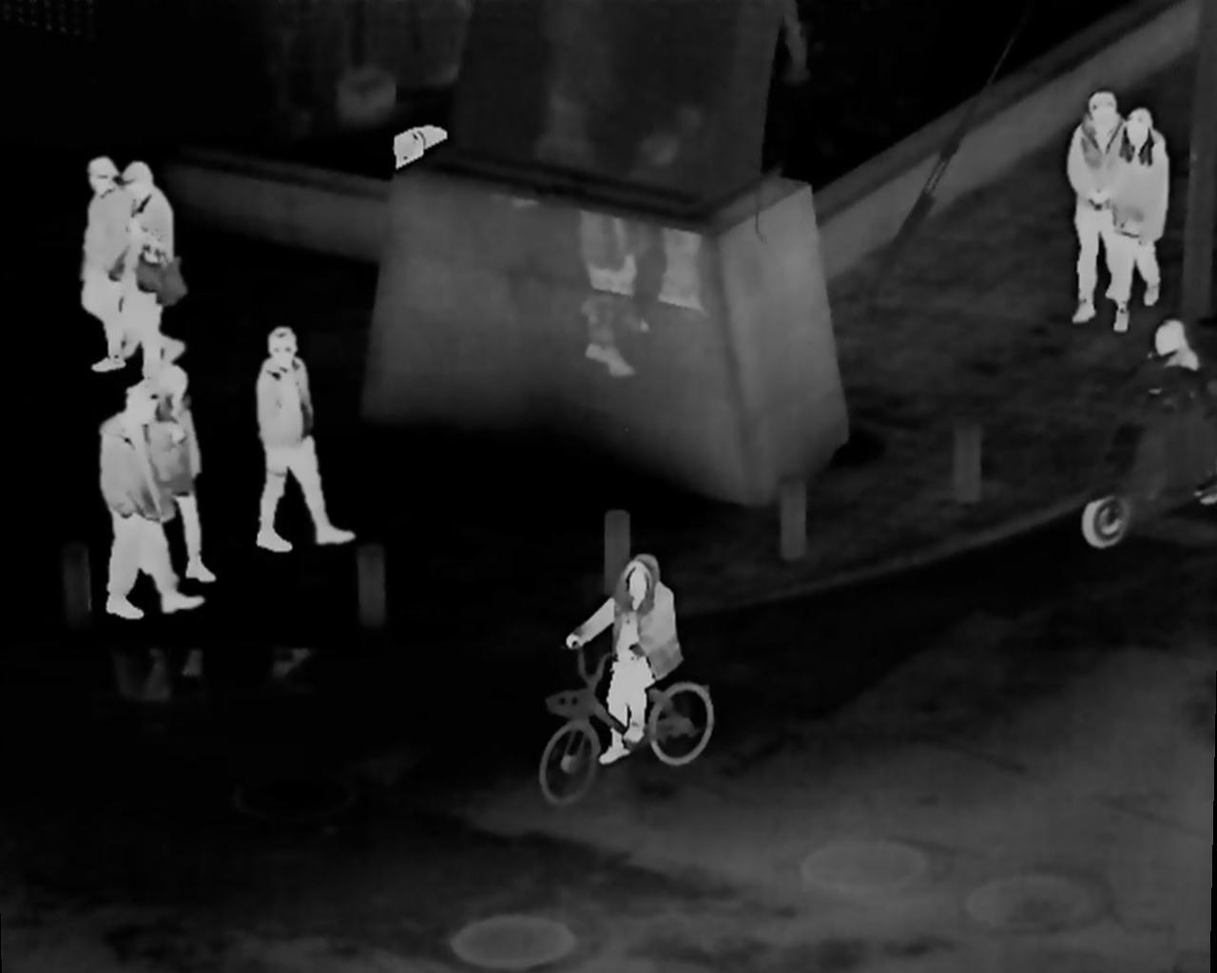person: (254, 328, 354, 557), (104, 386, 191, 617), (575, 558, 681, 739), (1095, 107, 1167, 356), (121, 154, 184, 363), (1066, 92, 1122, 322), (164, 360, 214, 589), (80, 156, 136, 353), (1140, 317, 1203, 439)
